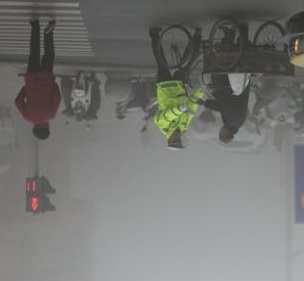person: (143, 24, 206, 152), (16, 14, 64, 139), (211, 70, 257, 144)
